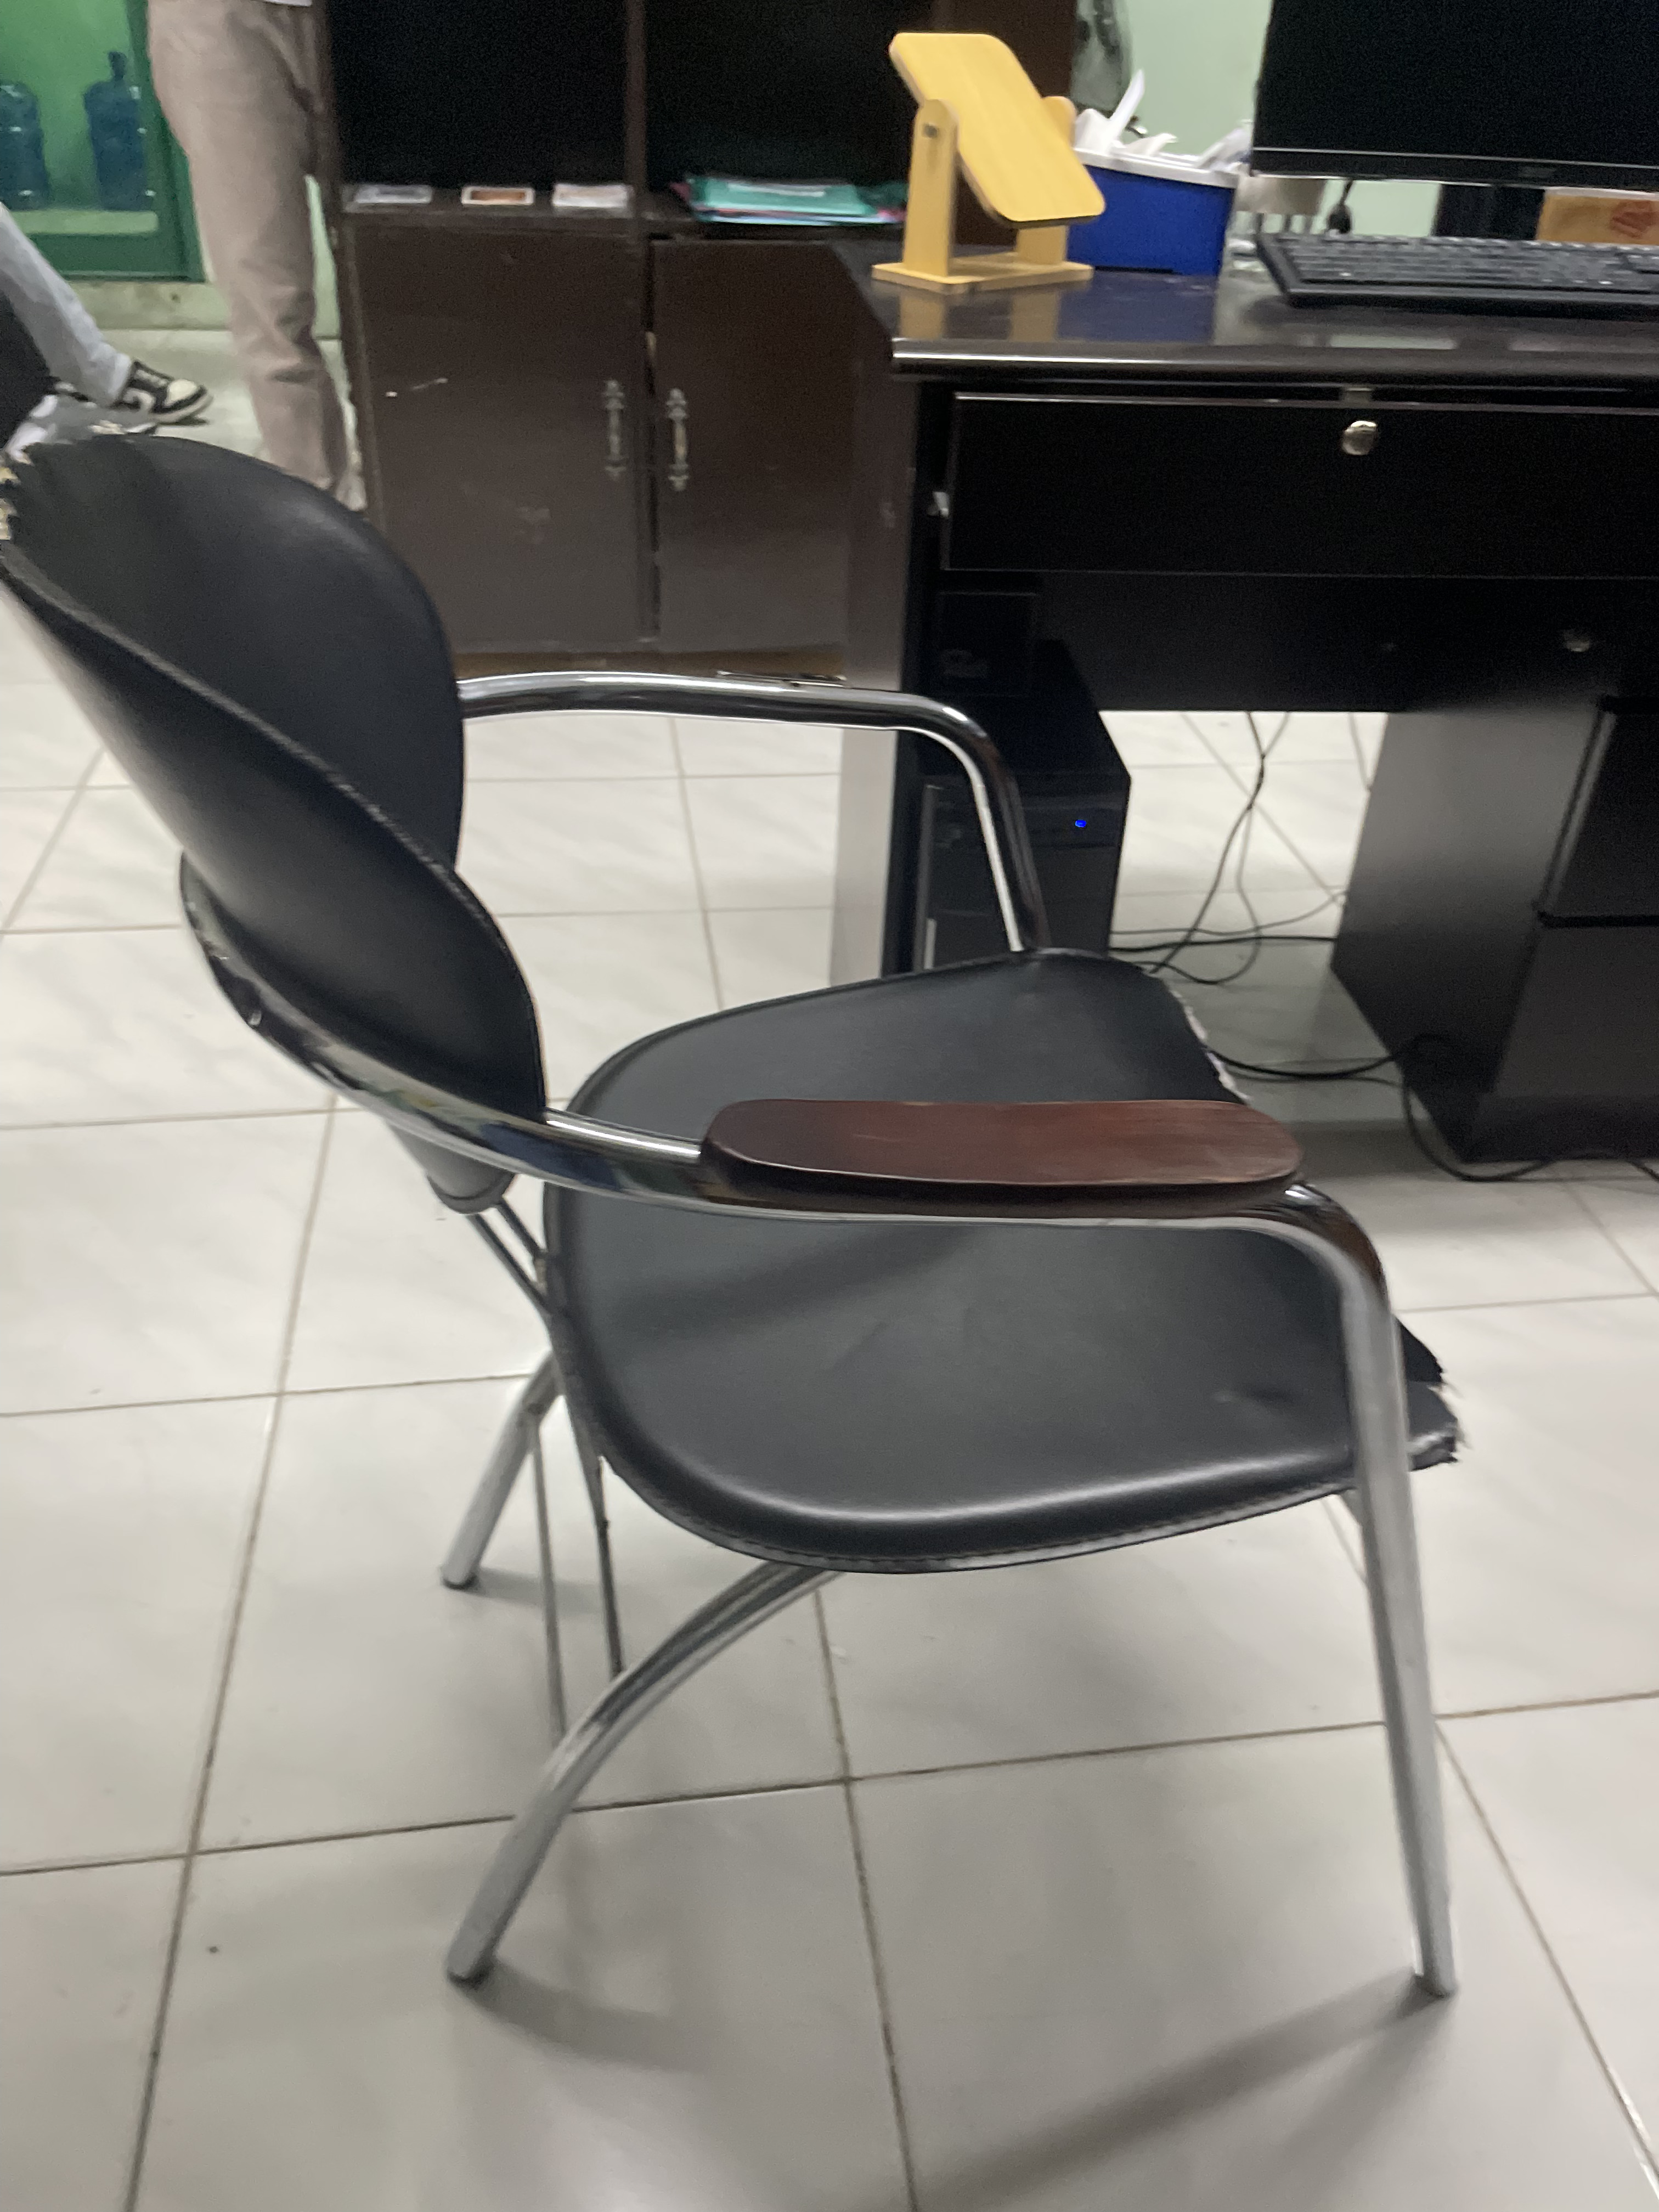chair1: (2, 442, 1480, 1998)
